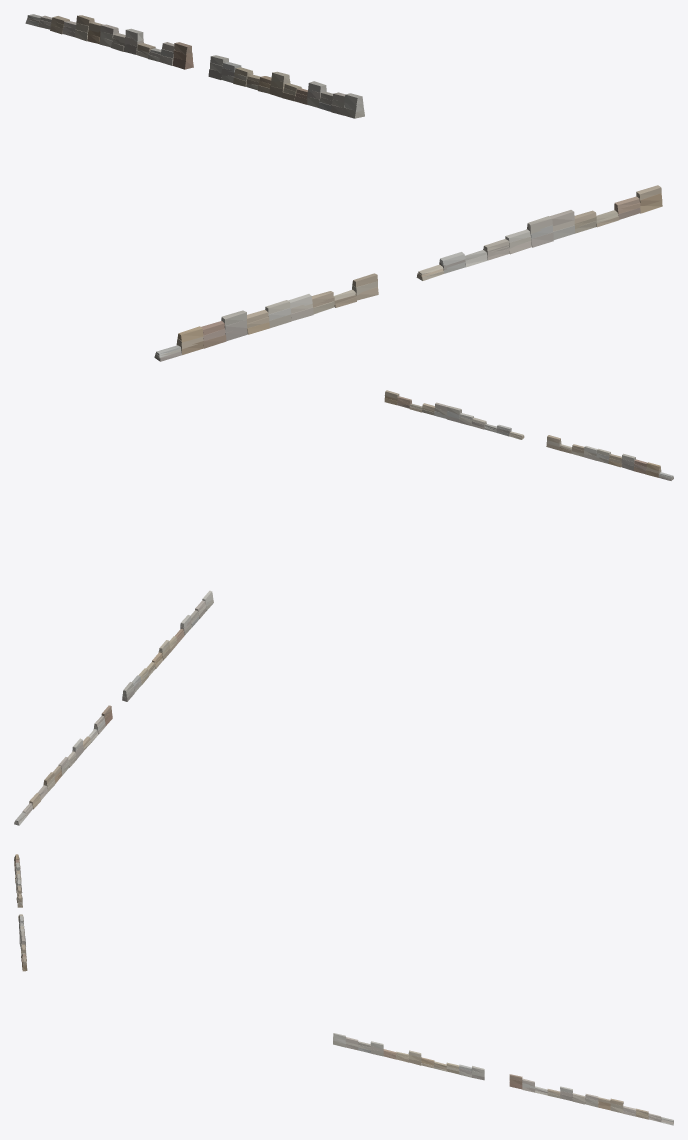
File: farm_4_28_mid.glb
3 views of the same model, one above another, from view 1: azimuth 30°, elevation 25°; view 2: azimuth 150°, elevation 25°; view 3: azimuth 270°, elevation 25° (orthographic). The views are drawn at different scales.
Parts seen in each view (by area): view 1: geometry_0; view 2: geometry_0; view 3: geometry_0.
Part boxes in pixels (left/top/right/bottom): geometry_0: left=25, top=14, right=662, bottom=361; geometry_0: left=14, top=390, right=673, bottom=825; geometry_0: left=14, top=854, right=673, bottom=1125.
Size of the model in its own units: 37.93 by 21.38 by 80.96.
